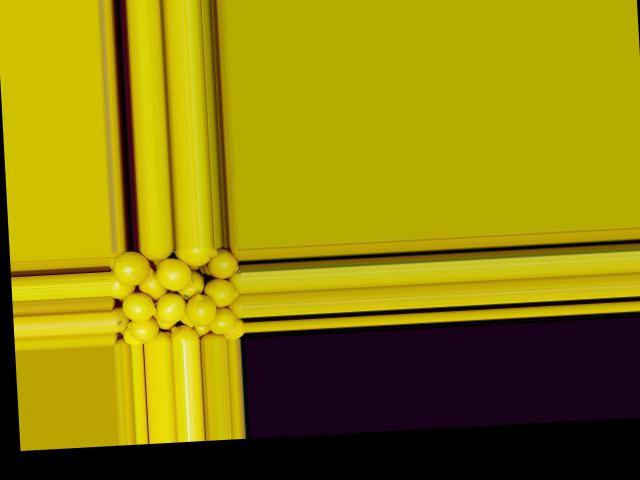lemon: (176, 245, 221, 266)
